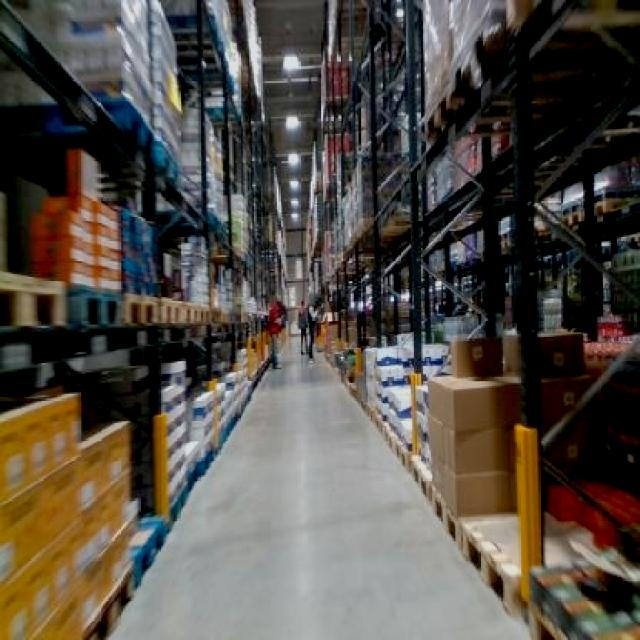pallets: (0, 392, 134, 637)
